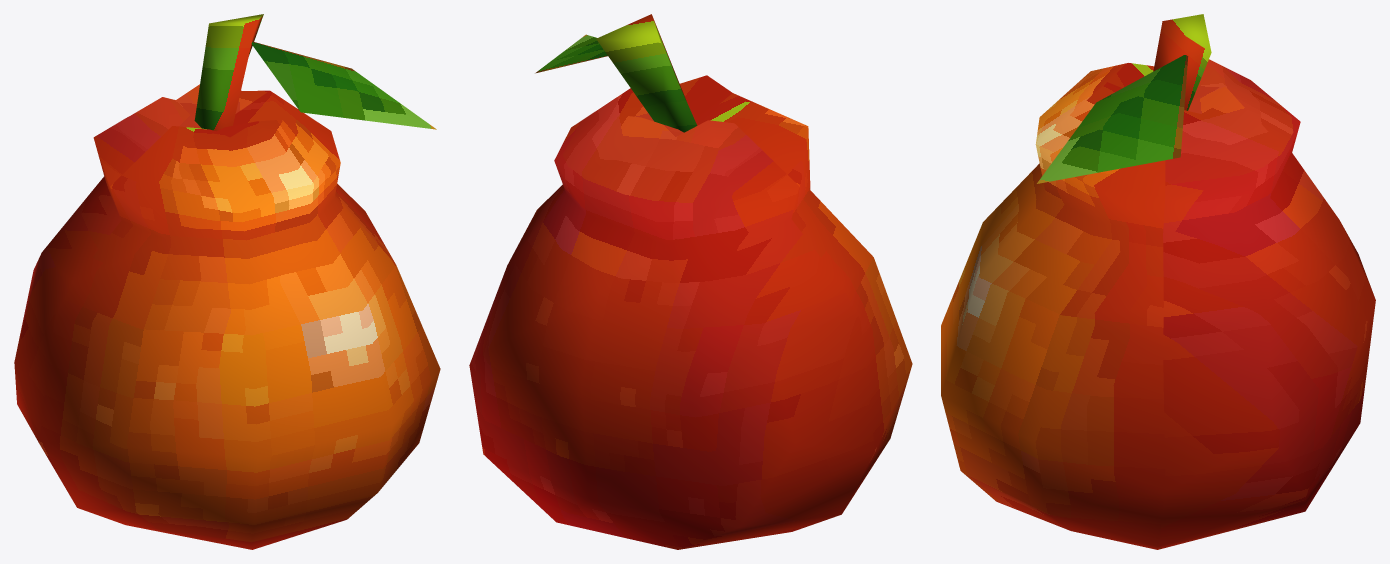
Rendered from fg_orange_d.dae.
3 views of the same model, side by side, from view 1: azimuth 30°, elevation 25°; view 2: azimuth 150°, elevation 25°; view 3: azimuth 270°, elevation 25° (orthographic). The views are drawn at different scales.
Visible parts, largest first — view 1: fg_orange_d; view 2: fg_orange_d; view 3: fg_orange_d.
Boxes of the visible parts, box(x1,y1,x2,y2) form: fg_orange_d: box(14, 14, 440, 549); fg_orange_d: box(469, 14, 912, 549); fg_orange_d: box(941, 14, 1375, 549).
Bounding box in the file's own units: 12.77 × 16.45 × 12.54.
